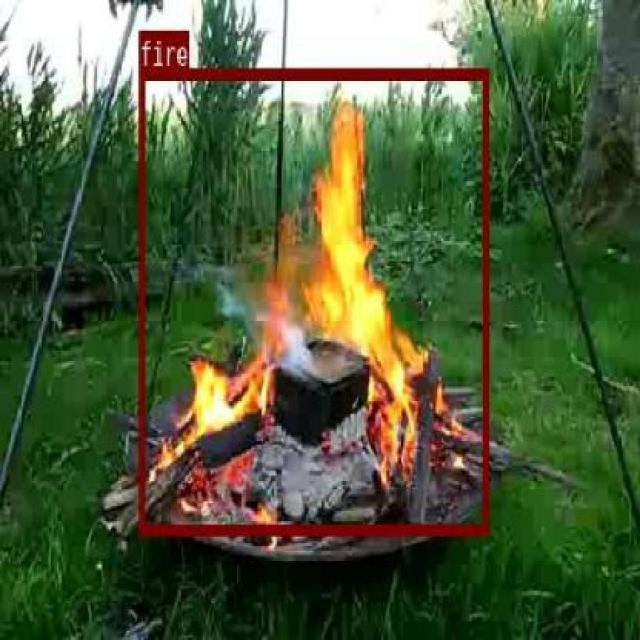Fire: (138, 66, 488, 534)
